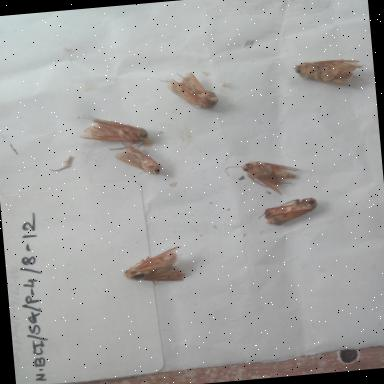abw: (150, 60, 232, 122), (219, 152, 316, 204), (68, 106, 156, 160), (283, 48, 374, 100), (114, 240, 195, 294), (246, 190, 326, 237), (107, 140, 174, 186)
